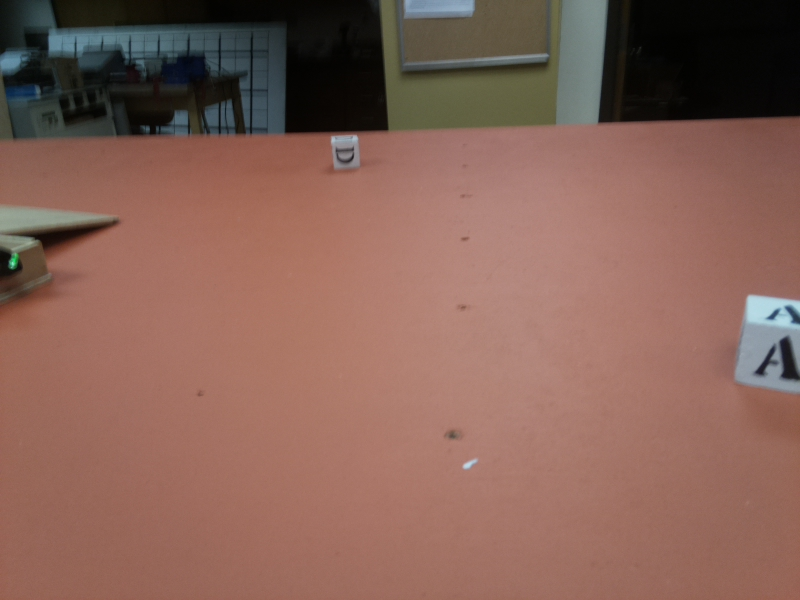blockA: (736, 288, 800, 390)
blockD: (327, 134, 364, 172)
side: (2, 233, 56, 312)
slope: (1, 198, 125, 238)
